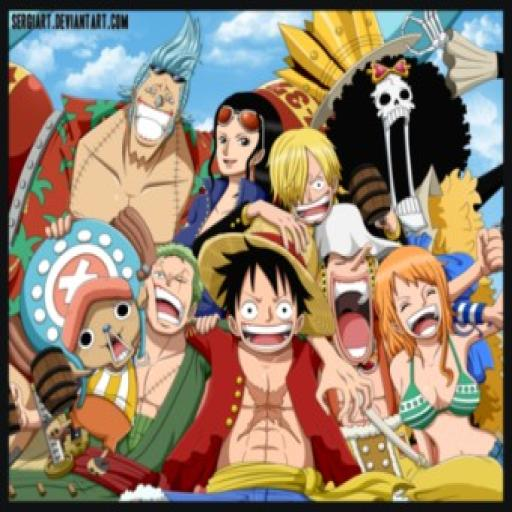Luffy: (196, 218, 320, 356)
Nami: (371, 238, 471, 368)
NicoRobin: (196, 86, 285, 190)
Usopp: (313, 202, 394, 371)
Zoro: (125, 227, 212, 349)
sanji: (265, 127, 350, 226)
